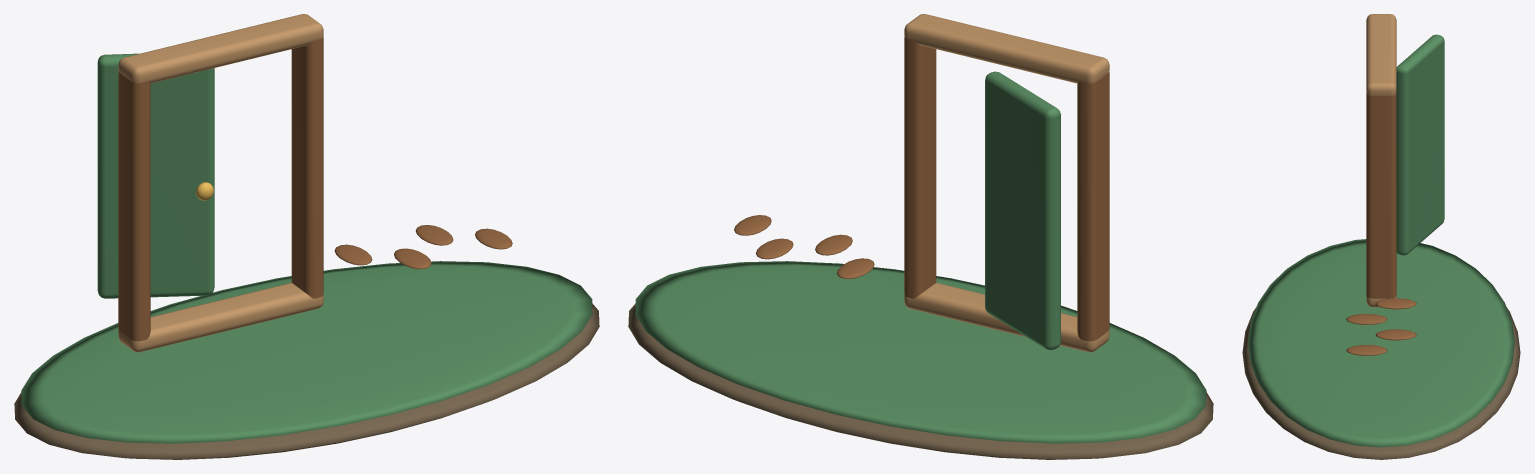
File: open-beginning.glb
The picture shows the model from 3 angles, left to right: view 1: azimuth 30°, elevation 25°; view 2: azimuth 150°, elevation 25°; view 3: azimuth 270°, elevation 25°; orthographic projection. The views are drawn at different scales.
Parts seen in each view (by area): view 1: open-beginning_surface_01, open-beginning_surface_02, open-beginning_surface_03, open-beginning_surface_00; view 2: open-beginning_surface_01, open-beginning_surface_02, open-beginning_surface_00, open-beginning_surface_03; view 3: open-beginning_surface_01, open-beginning_surface_02, open-beginning_surface_00, open-beginning_surface_03.
Part boxes in pixels (left/top/right/bottom): open-beginning_surface_01: left=21, top=53, right=592, bottom=443; open-beginning_surface_02: left=118, top=37, right=512, bottom=341; open-beginning_surface_03: left=118, top=14, right=323, bottom=352; open-beginning_surface_00: left=14, top=303, right=599, bottom=459; open-beginning_surface_01: left=635, top=71, right=1206, bottom=443; open-beginning_surface_02: left=734, top=37, right=1109, bottom=341; open-beginning_surface_00: left=628, top=303, right=1213, bottom=459; open-beginning_surface_03: left=904, top=14, right=1109, bottom=352; open-beginning_surface_01: left=1248, top=34, right=1514, bottom=447; open-beginning_surface_02: left=1346, top=93, right=1416, bottom=355; open-beginning_surface_00: left=1242, top=308, right=1520, bottom=459; open-beginning_surface_03: left=1366, top=14, right=1396, bottom=307.
Bounding box in the file's own units: 4.56 × 2.82 × 2.5.
